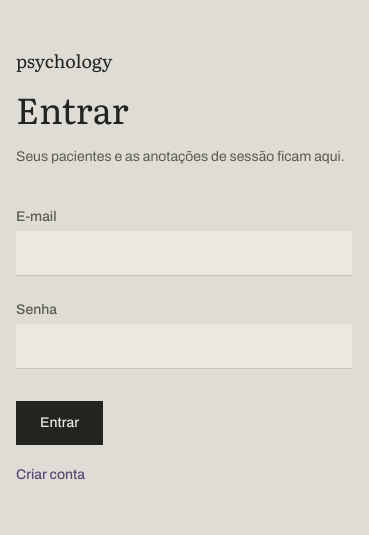
Test: LoginPage › mostra a mensagem do envelope quando a credencial e invalida
The image size is (369, 535).
In the field labelled "E-mail": x=184, y=253 [16,230,352,276], type "ana@teste.com"
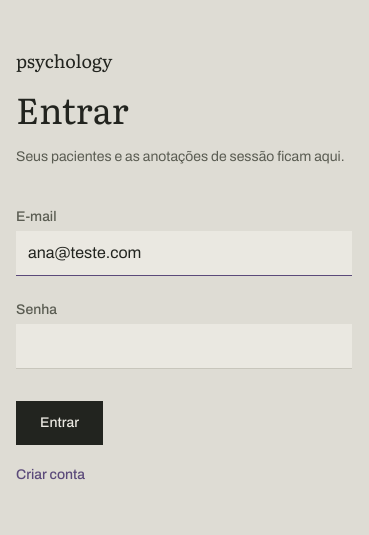
In the password field labelled "Senha": x=184, y=346 [16,324,352,368], type "errada"
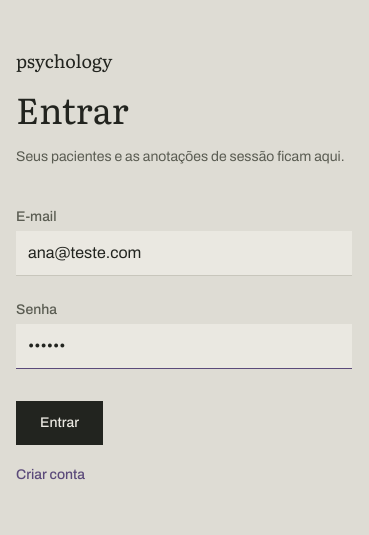
Click the button "Entrar": x=60, y=422 [16,400,103,444]
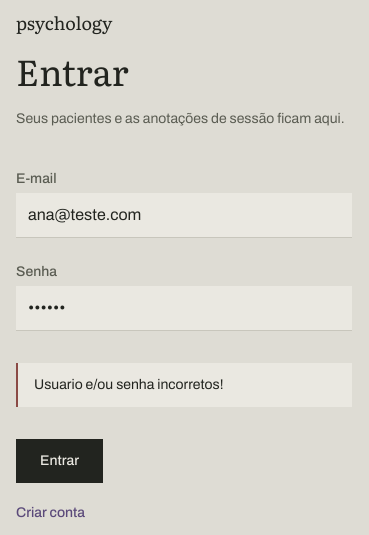
Expected: the text "Usuario e/ou senha incorretos!" is shown, [16,362,352,406]
